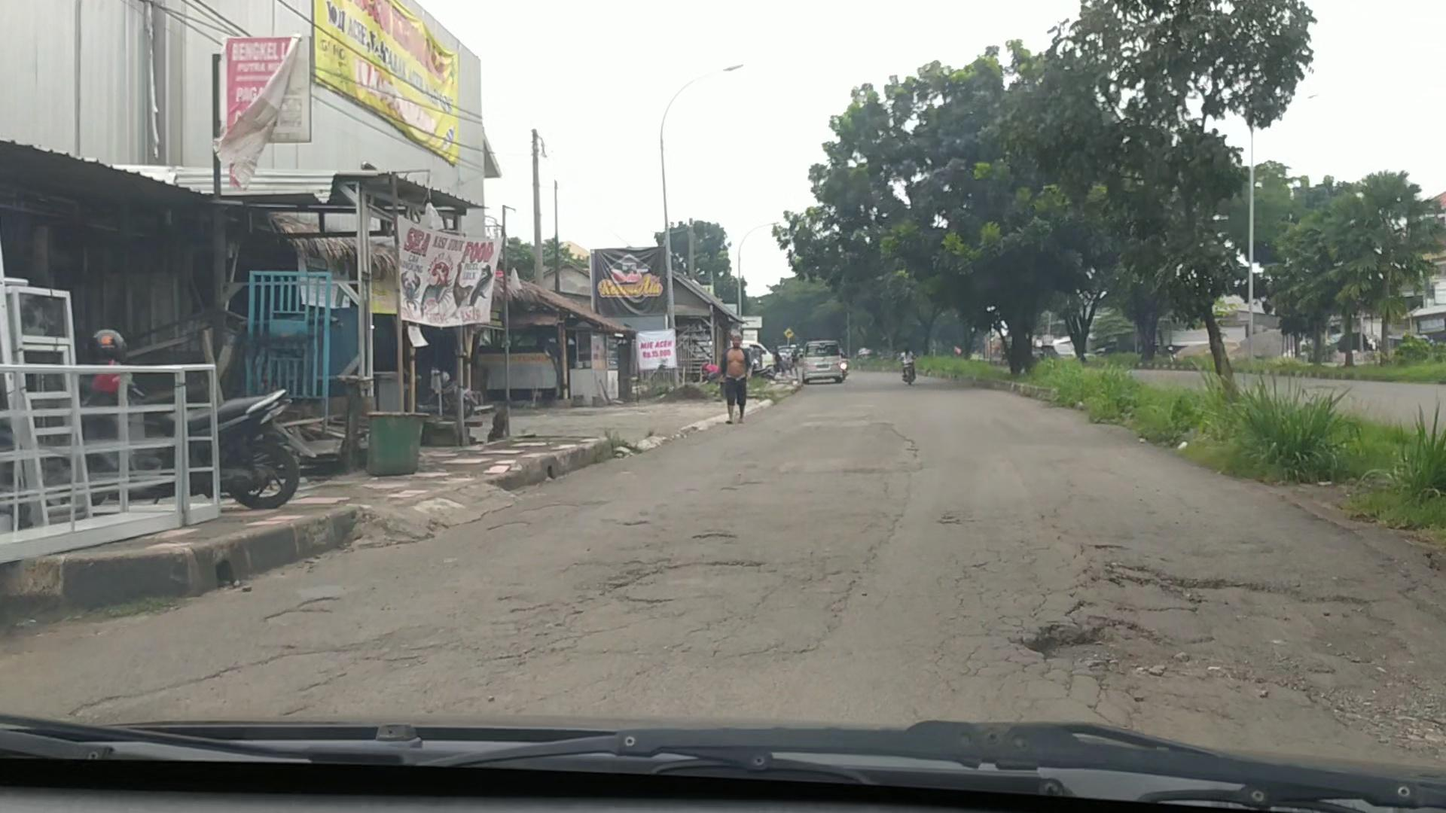pothole: (1099, 557, 1405, 666), (1013, 611, 1162, 672)
